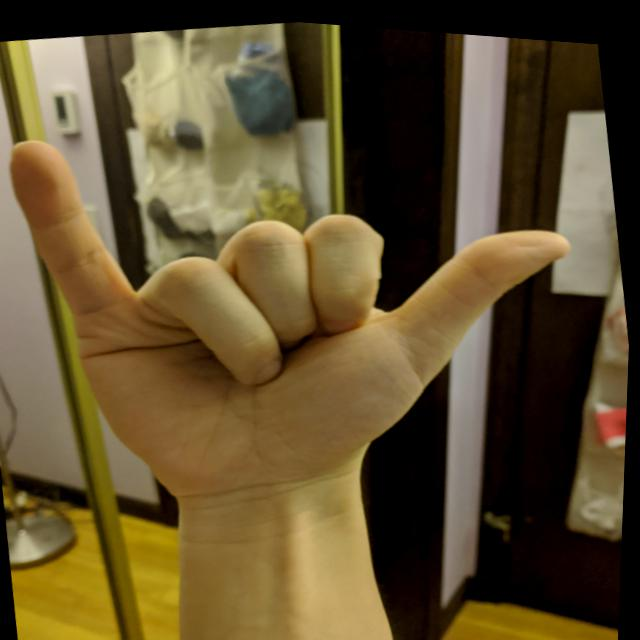Y: (0, 58, 617, 541)
